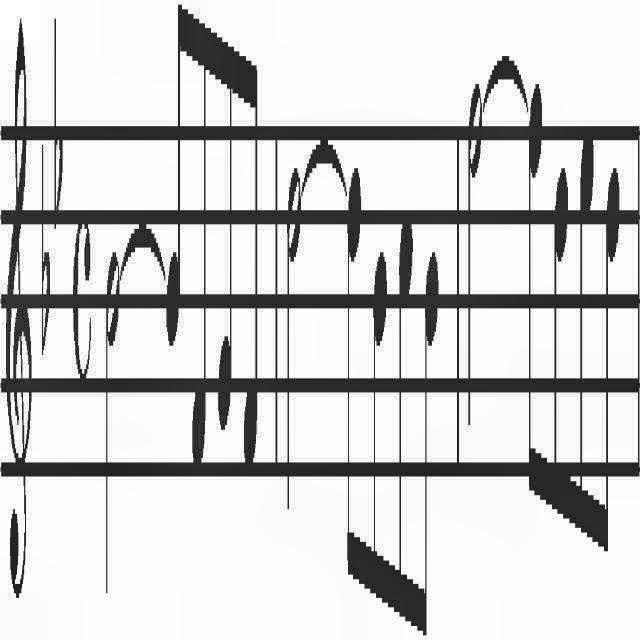Bass-clef: (5, 8, 33, 620)
Bemol: (40, 135, 51, 361), (53, 12, 63, 228)
Eighth-note: (598, 166, 622, 562), (574, 120, 596, 544), (526, 66, 546, 514), (416, 244, 439, 628), (191, 1, 209, 476), (394, 208, 414, 630), (217, 20, 236, 436), (243, 49, 260, 488), (548, 166, 568, 524), (346, 163, 362, 604), (370, 236, 388, 618), (166, 0, 185, 360)
Half-note: (286, 160, 302, 530), (466, 76, 482, 437), (104, 250, 120, 610)
